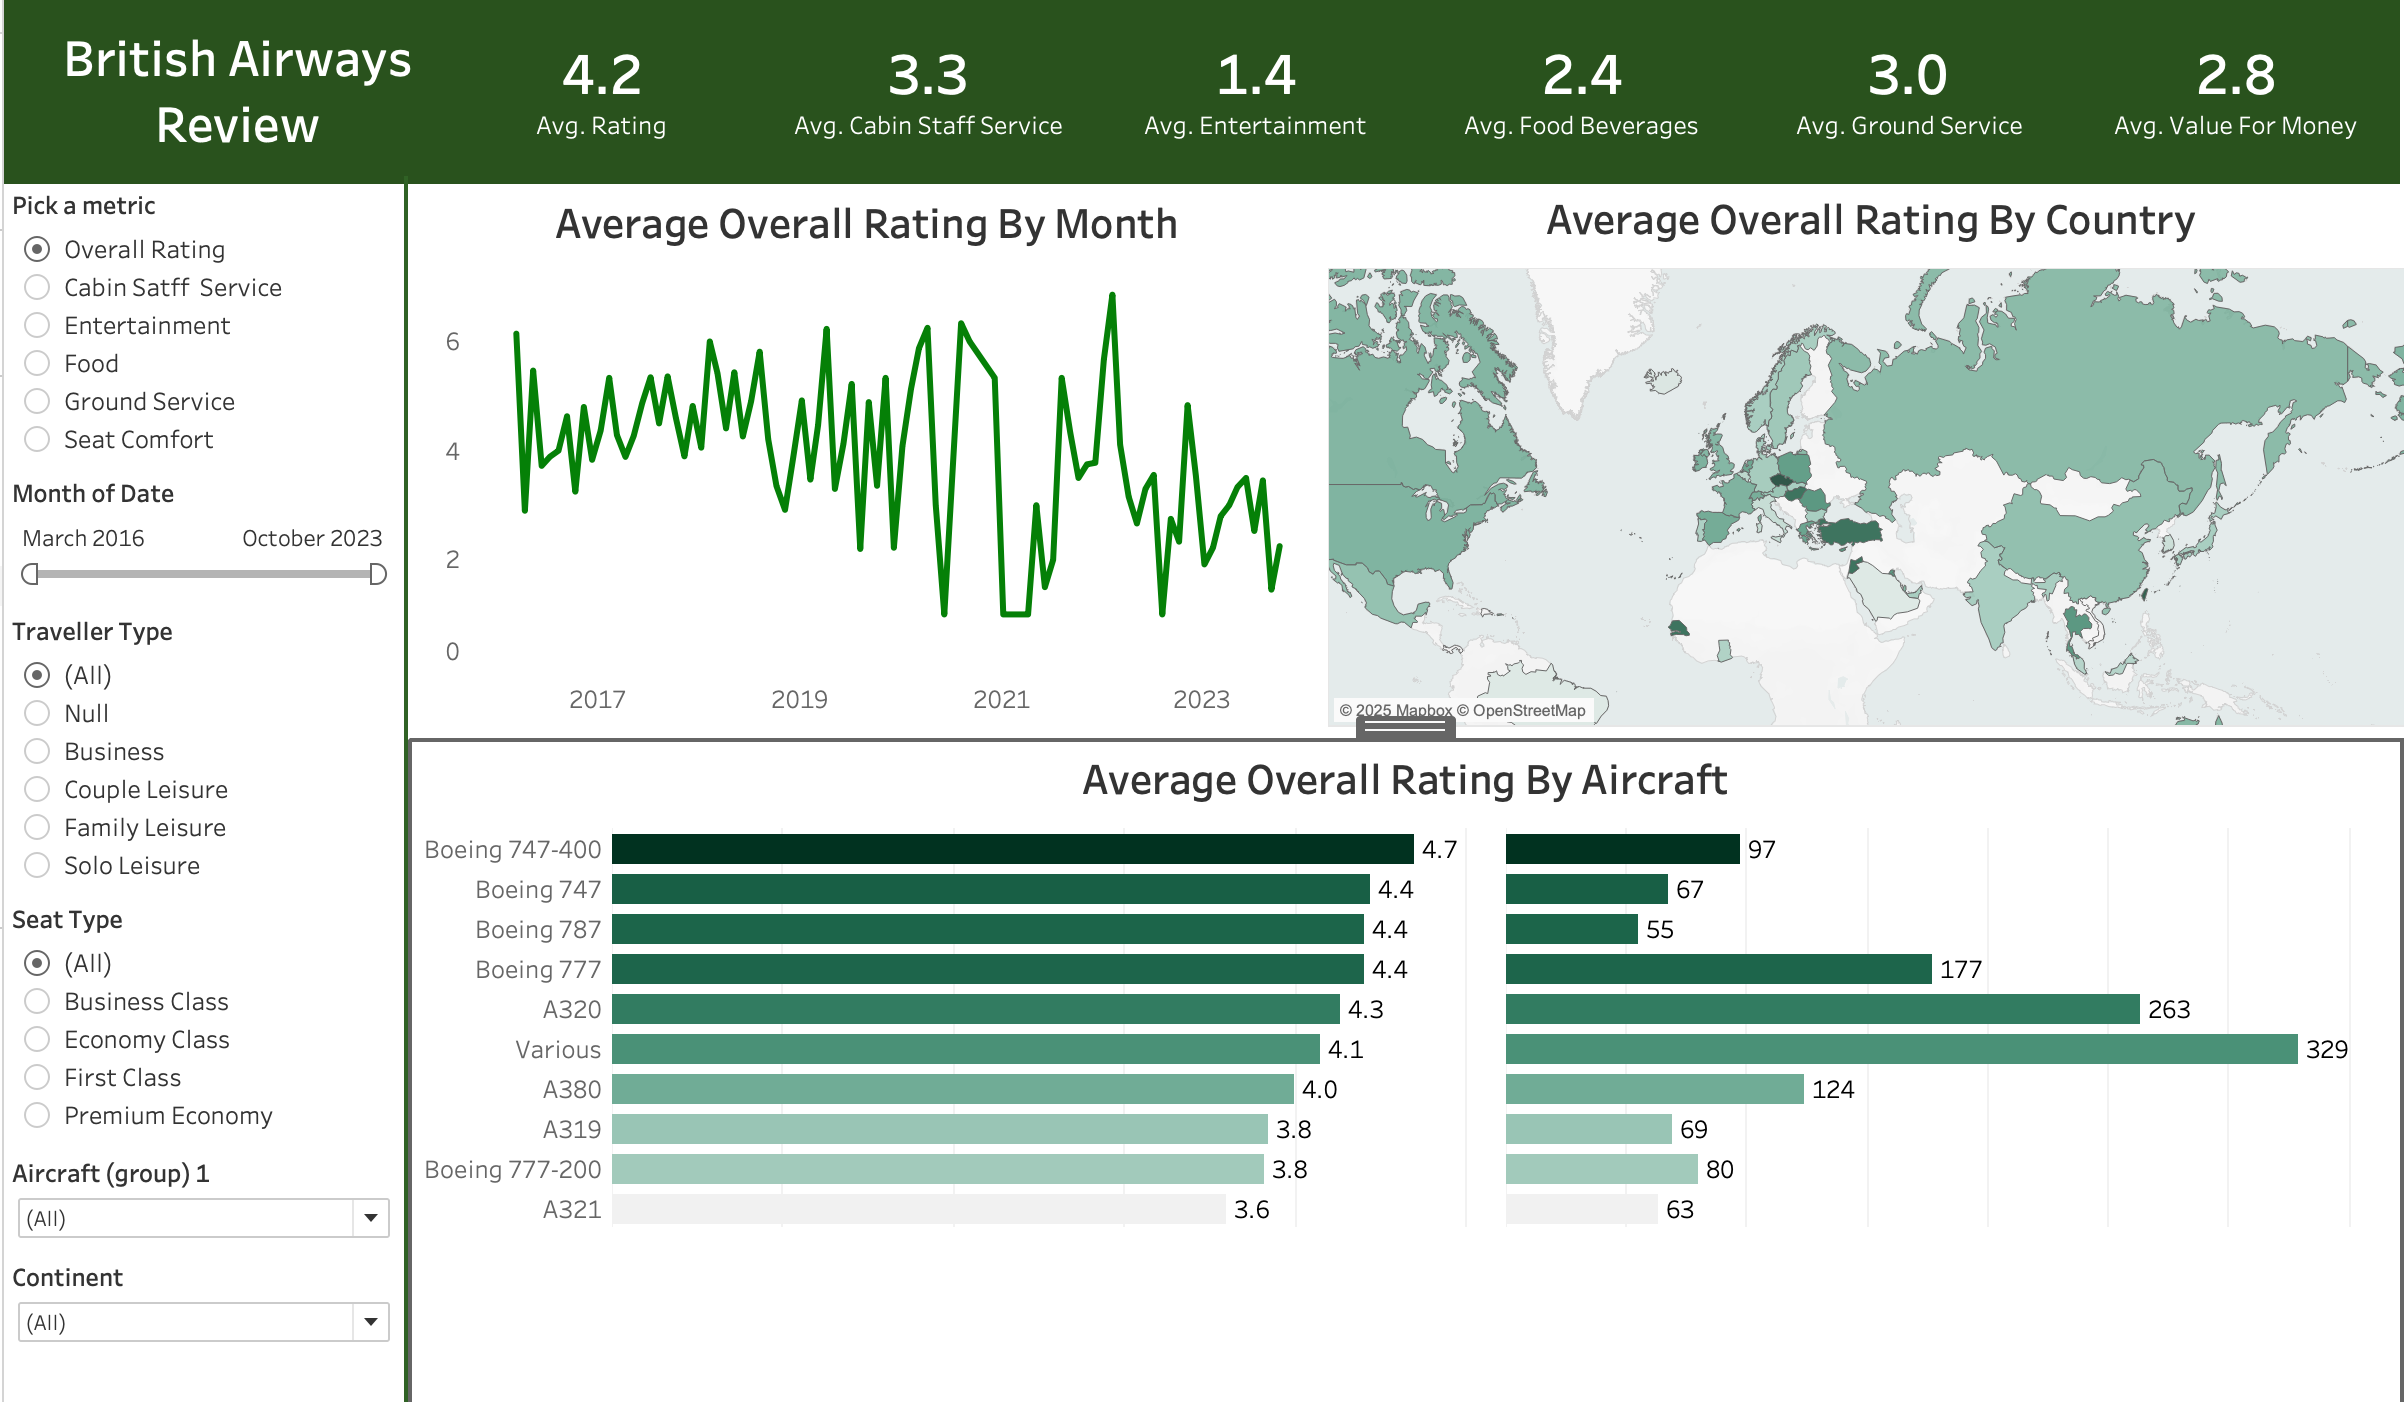

This screenshot's page, from the dashboard's own definition file:
{"tool":"tableau","page":{"name":"Dashboard 1","canvas":[1200,720],"ordinal":0},"visuals":[{"type":"worksheet","title":"Summary","mark":"Automatic","box":[218,10,980,94]},{"type":"blank","box":[200,100,2,614]},{"type":"parameter","param":"[Parameters].[Parameter 1]","box":[0,102,200,144]},{"type":"worksheet","title":"Map","mark":"Automatic","box":[662,103,543,273]},{"type":"worksheet","title":"Month","mark":"Automatic","rows":["Calculation_2699415426774859776"],"cols":["date"],"box":[205,105,453,271]},{"type":"filter","title":"Map","param":"[federated.1wh4t9i04d6cgg1a9gkxj1xjlu7a].[tmn:date:qk]","box":[0,246,200,69]},{"type":"filter","title":"Map","param":"[federated.1wh4t9i04d6cgg1a9gkxj1xjlu7a].[none:traveller_type:nk]","box":[0,315,200,144]},{"type":"worksheet","title":"Aircraft","mark":"Automatic","cols":["Calculation_2699415426774859776","ba_reviews.csv_B382603FA6DC4C0D9C861DBEBFCD3D77"],"box":[204,383,994,331]},{"type":"filter","title":"Map","param":"[federated.1wh4t9i04d6cgg1a9gkxj1xjlu7a].[none:seat_type:nk]","box":[0,459,200,127]},{"type":"filter","title":"Map","param":"[federated.1wh4t9i04d6cgg1a9gkxj1xjlu7a].[Aircraft (group) 1]","box":[0,586,200,52]},{"type":"filter","title":"Map","param":"[federated.1wh4t9i04d6cgg1a9gkxj1xjlu7a].[none:Continent:nk]","box":[0,638,200,52]}]}

Visuals, with their boxes in screenshot pixels (x1, y1, x2, y2), scaled from the page's 1200x720 canvas onto the 2404x1402 screenshot:
"Summary" worksheet: region(437, 19, 2400, 203)
blank: region(401, 195, 405, 1390)
parameter: region(0, 199, 401, 479)
"Map" worksheet: region(1326, 201, 2403, 732)
"Month" worksheet: region(411, 204, 1318, 732)
"Map" filter: region(0, 479, 401, 613)
"Map" filter: region(0, 613, 401, 894)
"Aircraft" worksheet: region(409, 746, 2400, 1390)
"Map" filter: region(0, 894, 401, 1141)
"Map" filter: region(0, 1141, 401, 1242)
"Map" filter: region(0, 1242, 401, 1344)
